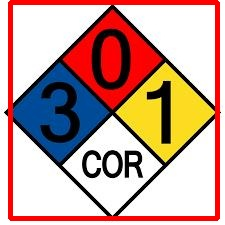nfpa: (10, 2, 217, 218)
